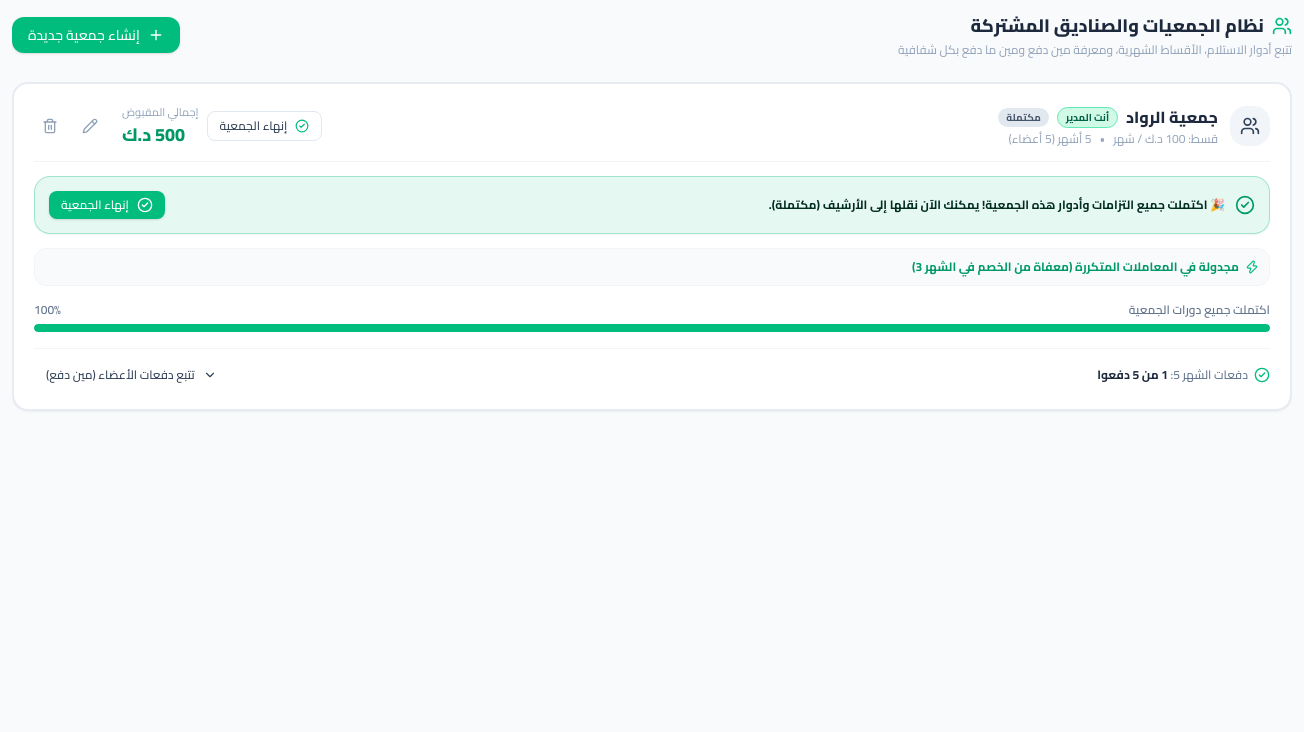
MoneyCirclesManager Component › renders "مستلم الدورة (معفى)" badge for this month receiver and keeps paid count bounded
The width and height of the screenshot is (1304, 732).
Note: Open members tracking table
Click the button "تتبع دفعات الأعضاء (مين دفع)".
click(131, 374)  # box [34, 360, 229, 388]
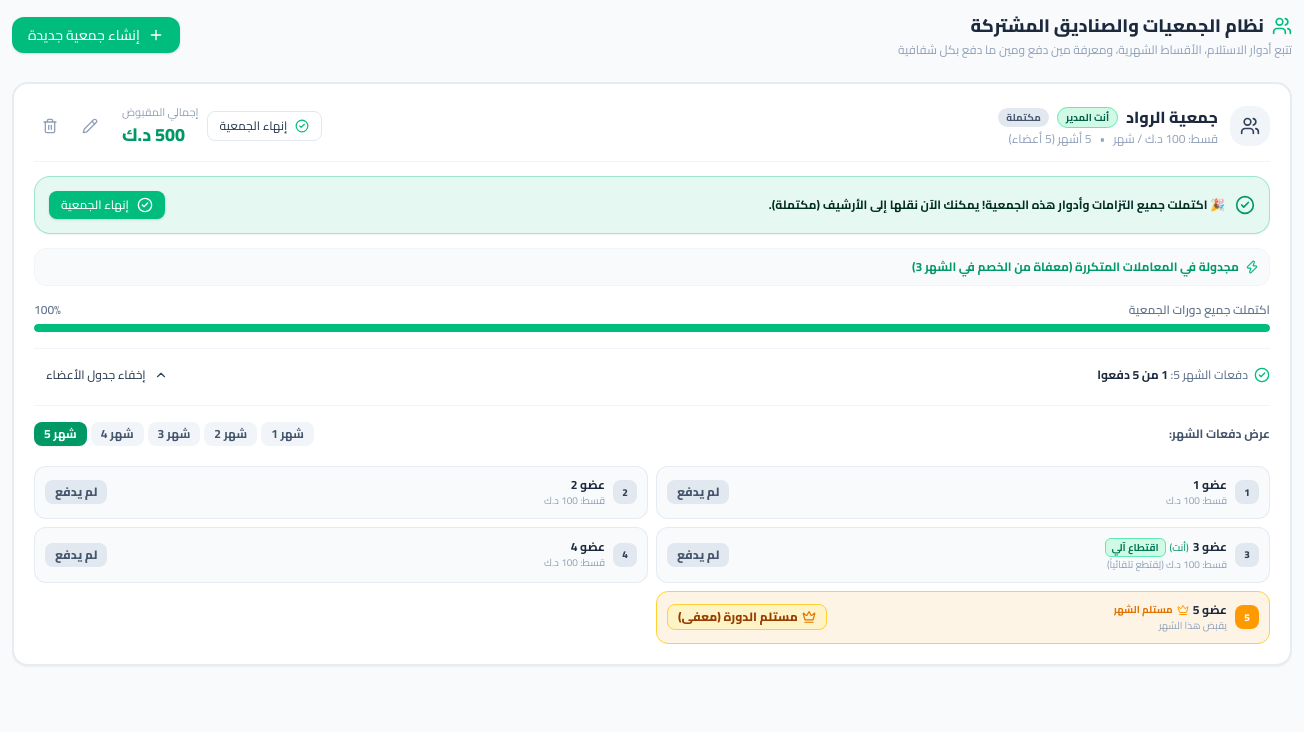
Note: Select month 1
Click the button "شهر 1".
click(288, 434)  # box [261, 422, 314, 446]
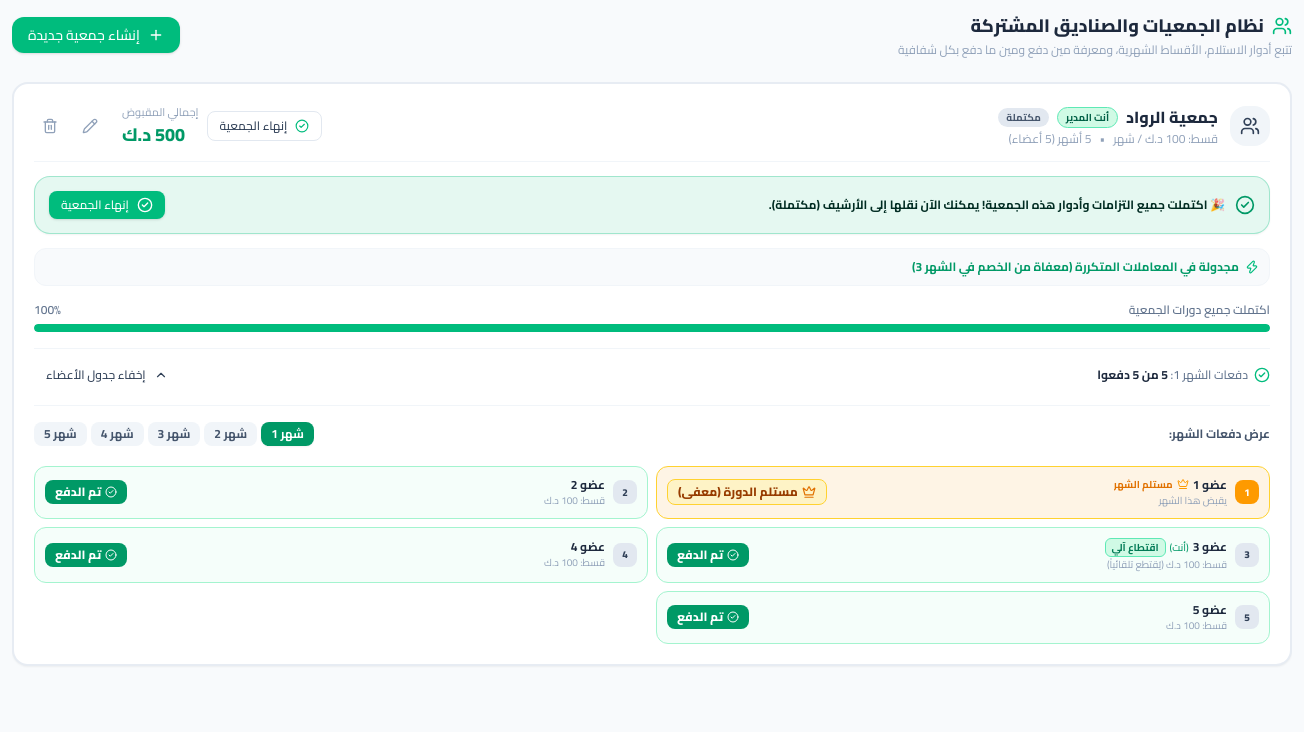
Now the text "5 من 5 دفعوا" is shown, box [1097, 362, 1168, 386]
Now the text "مستلم الدورة (معفى)" is shown, box [678, 484, 798, 500]
